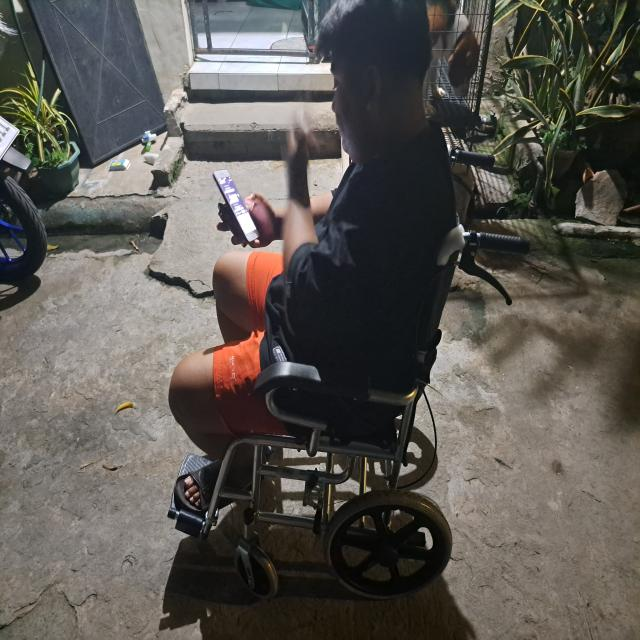wheelchairs: (169, 141, 535, 615)
